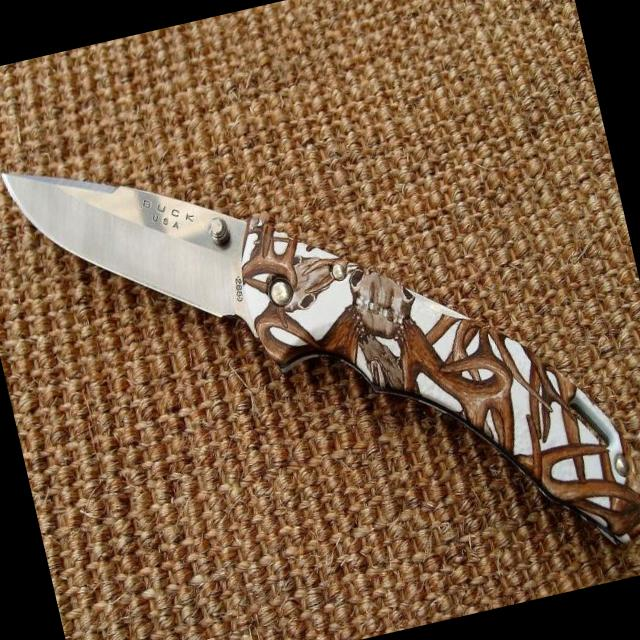Knife: (3, 174, 640, 538)
